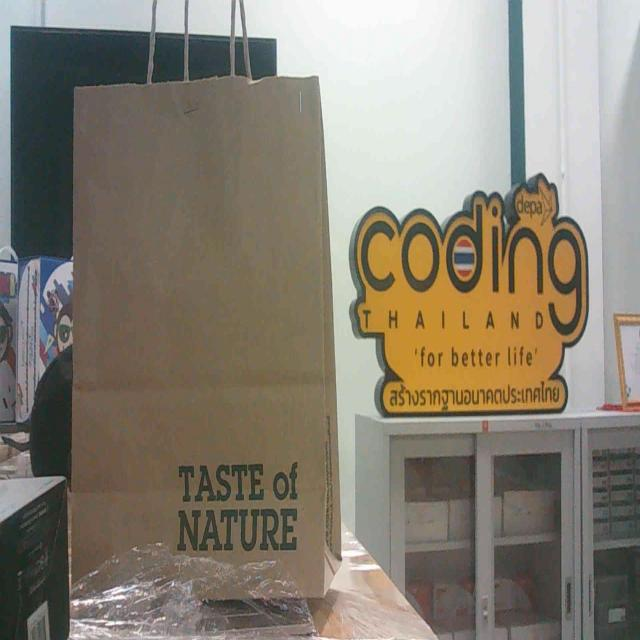bag: (20, 18, 376, 618)
